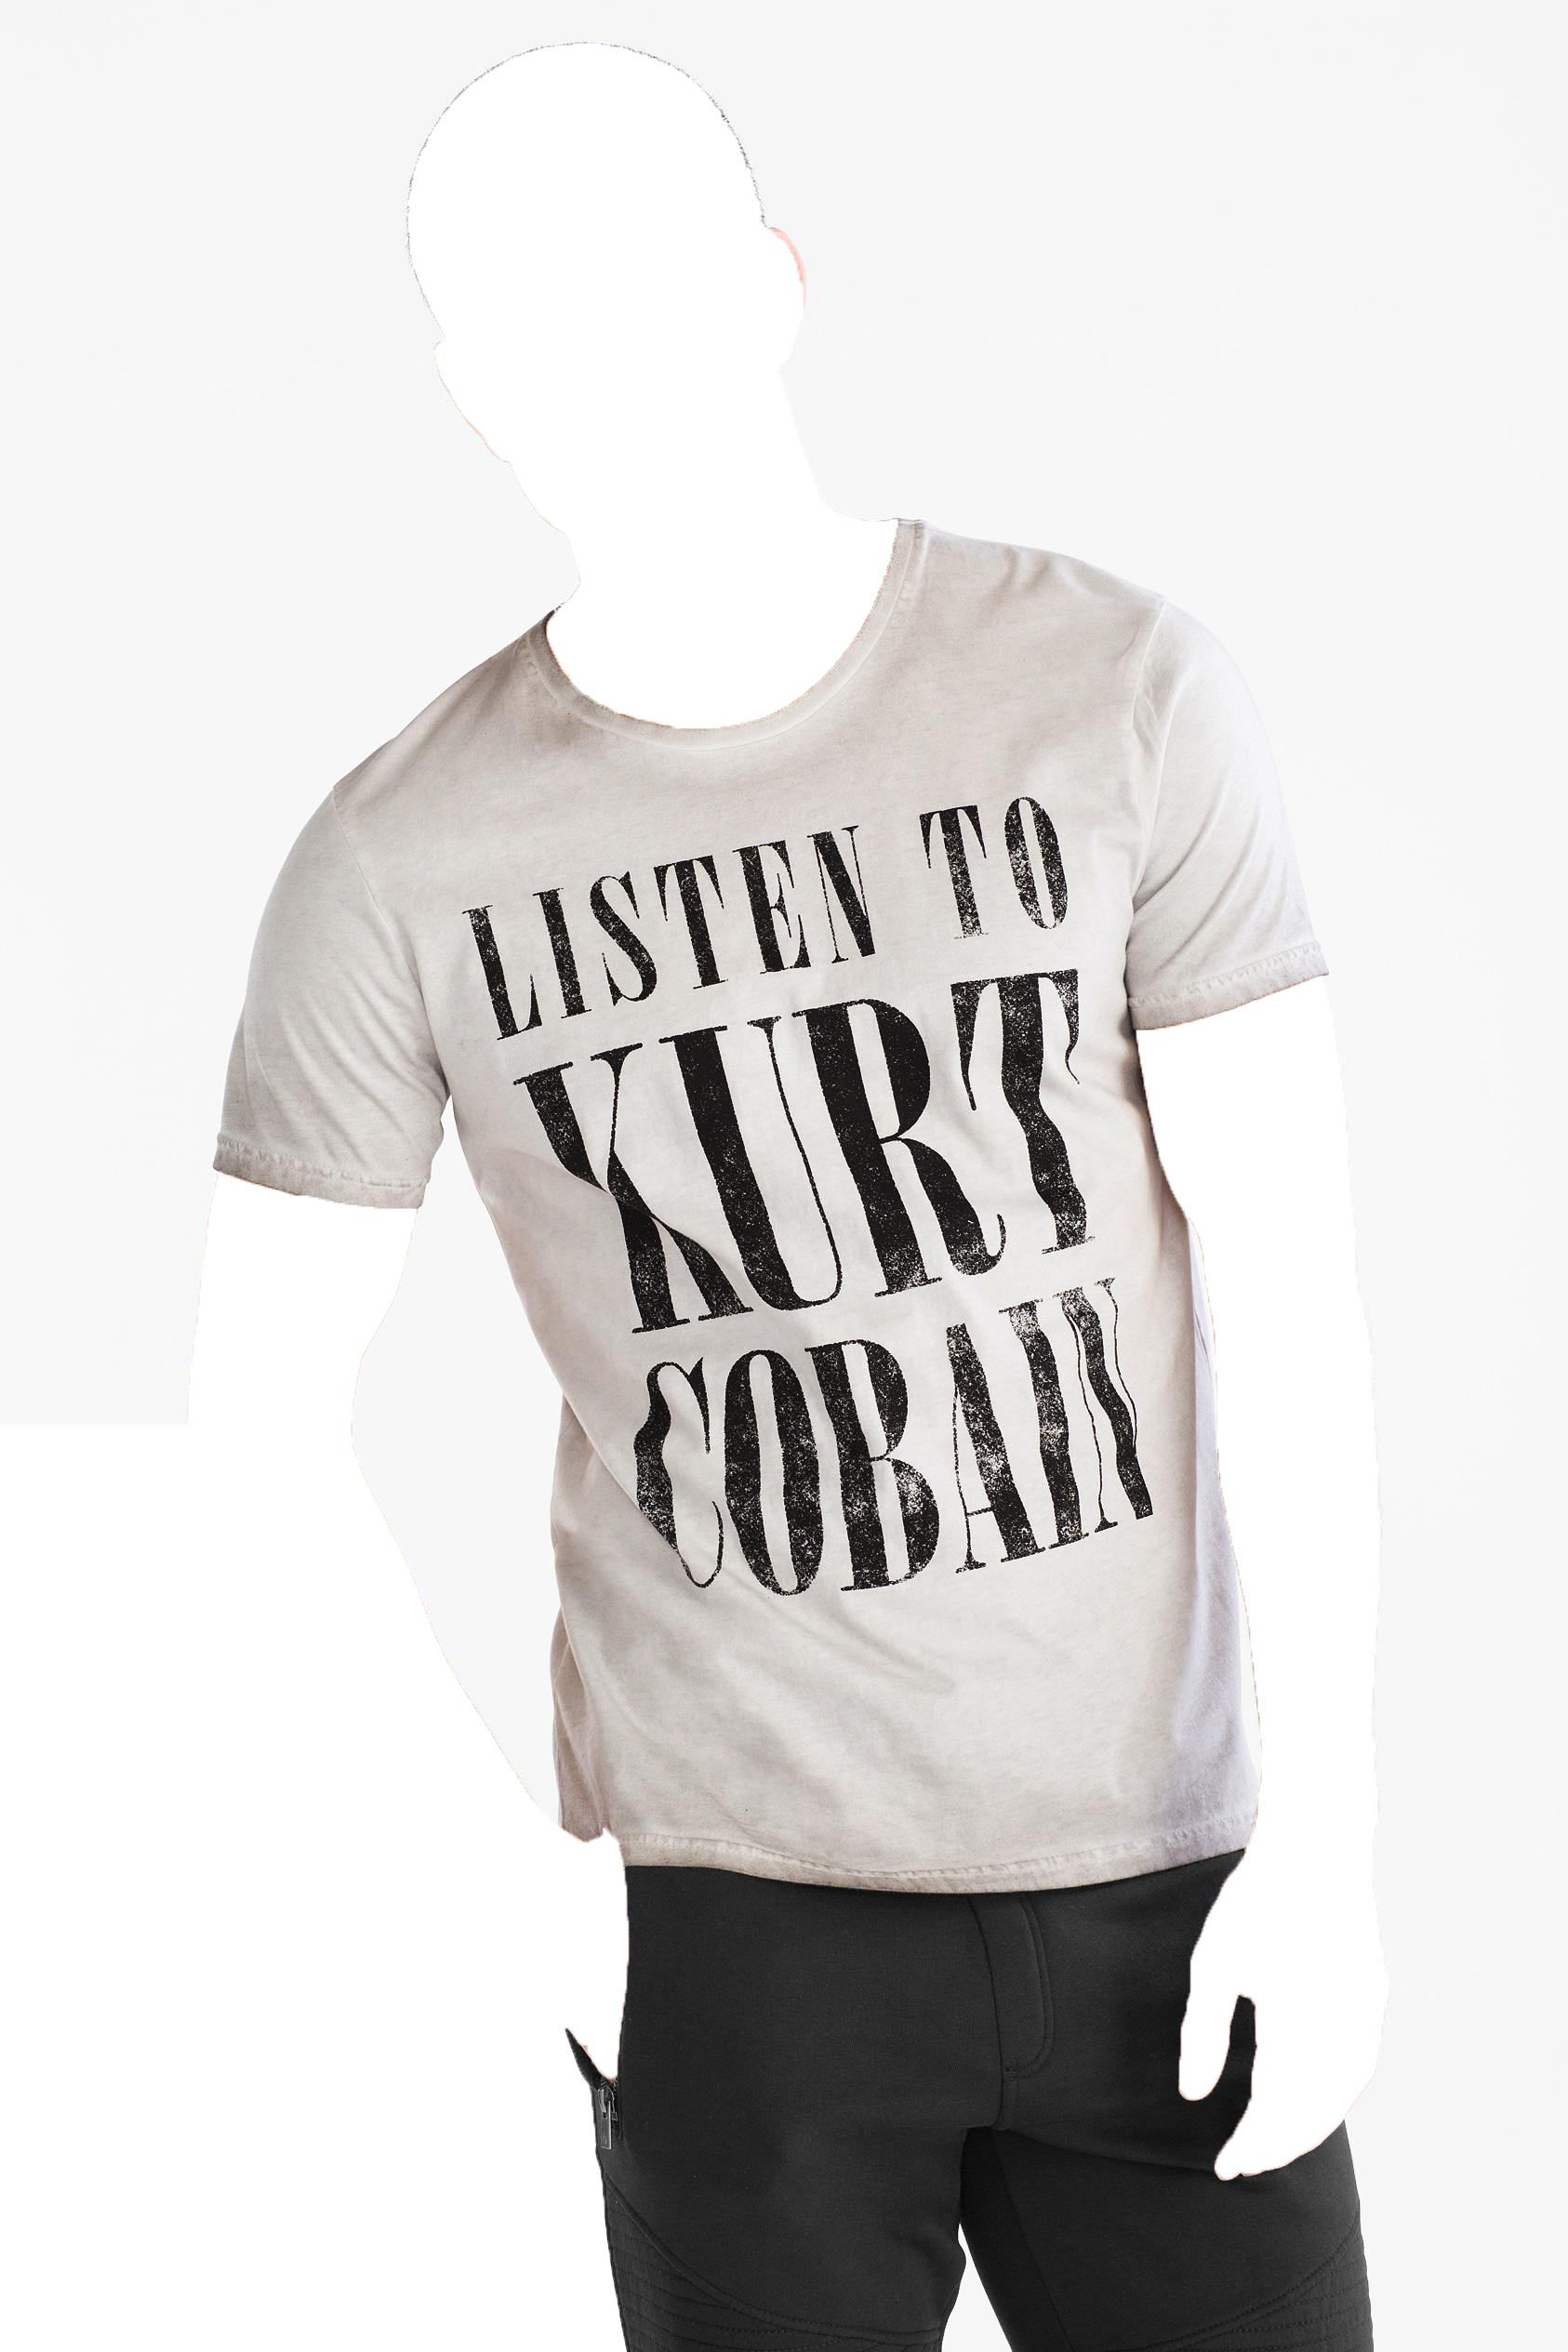teeshirt: (191, 514, 1365, 1920)
